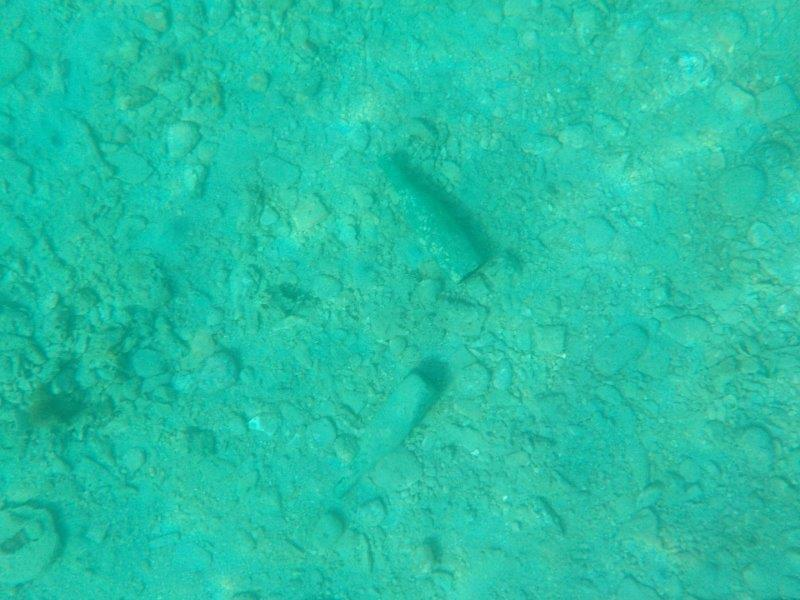bottle: (373, 148, 487, 287), (329, 366, 442, 505)
